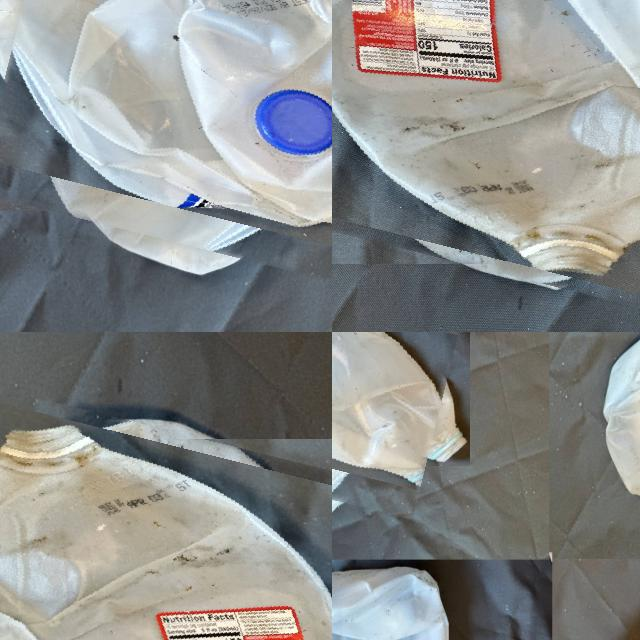milk-jug: (332, 0, 640, 301), (0, 0, 332, 265), (0, 401, 332, 640), (332, 332, 453, 507)
